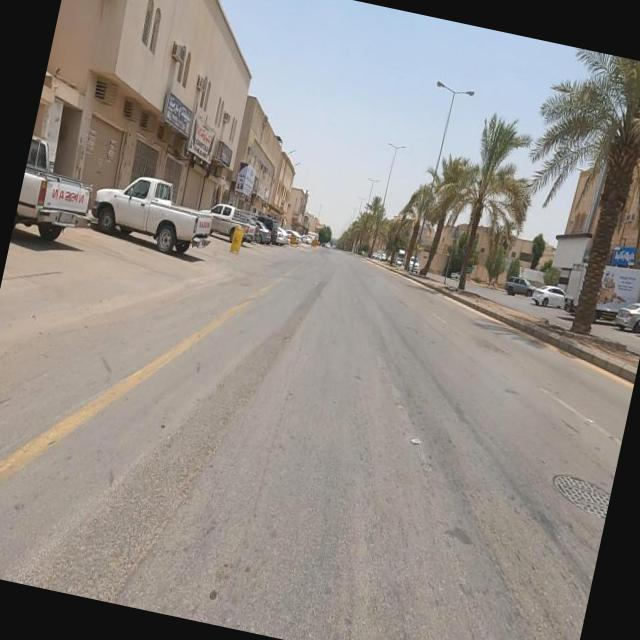debris: (235, 151, 286, 228)
